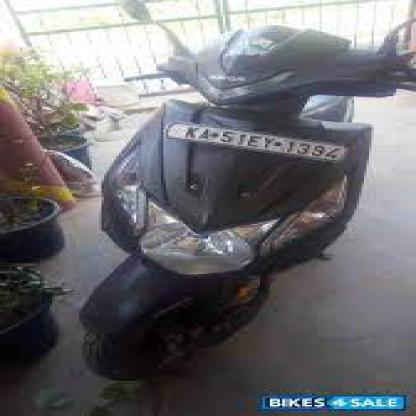bike: (77, 2, 411, 382)
